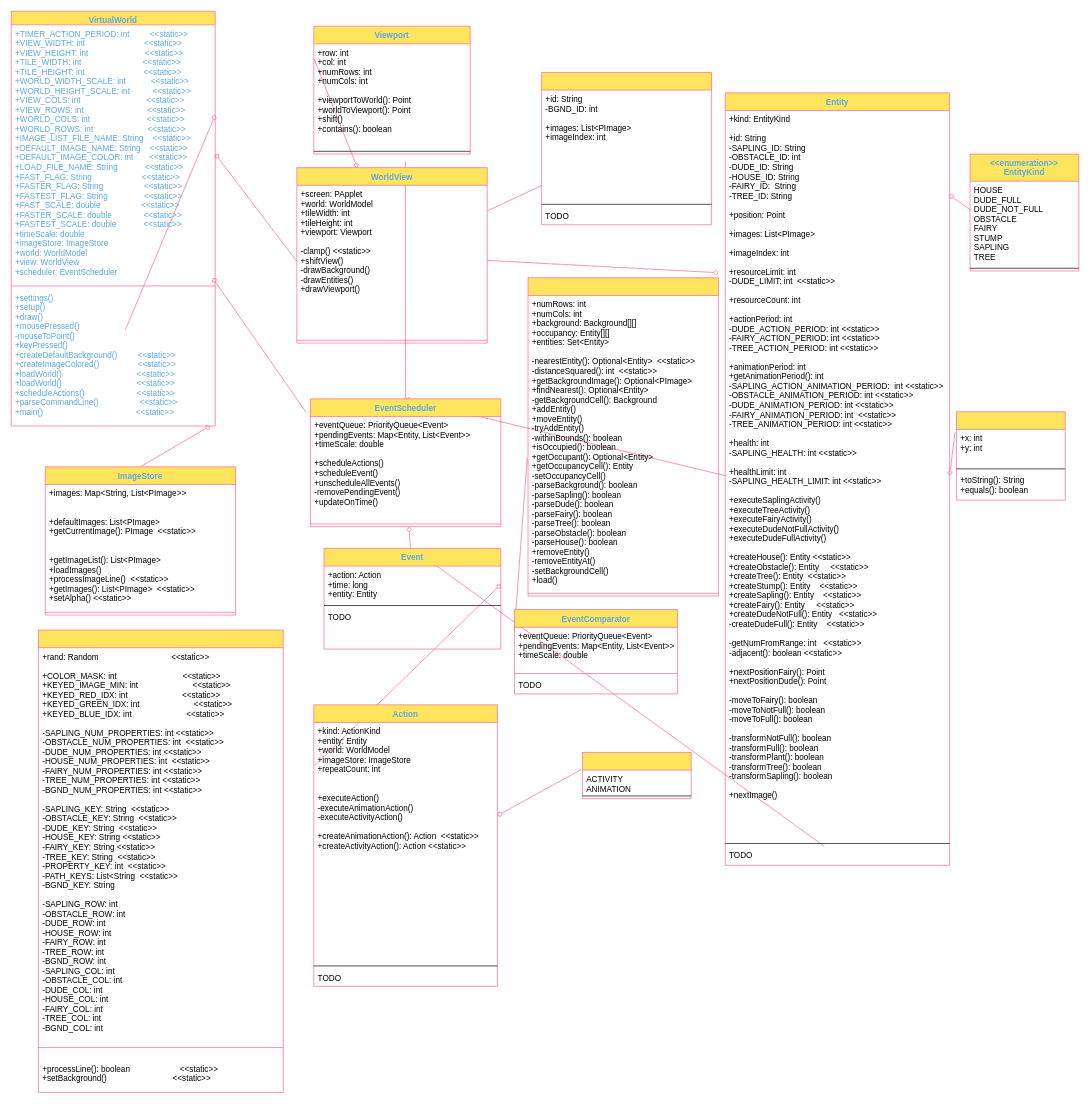
This 1090x1104 diagram has some shape labels left out. The shapes that lost their labels are listed below. From the top down, each one's box as (x1, y1, x2, y2) in pixels, then its label:
(541, 72, 712, 225): Background
(527, 277, 718, 596): WorldModel
(956, 411, 1065, 500): Point
(582, 752, 691, 799): ActionKind
(38, 629, 283, 1092): Functions
